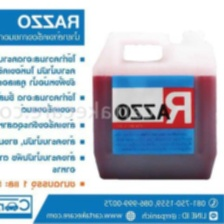cleaning_solution: (90, 30, 220, 184)
